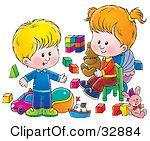boat: (67, 94, 92, 118)
chair: (101, 62, 124, 102)
person: (78, 4, 146, 99), (12, 17, 69, 118)
